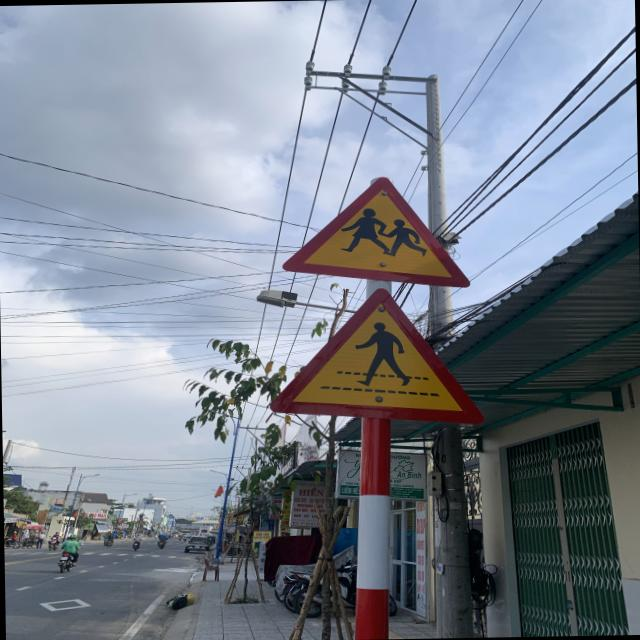Duong_Nguoi_Di_Bo_Sang_Ngang: (268, 284, 487, 430)
Vong_Xuyen: (282, 174, 468, 290)
